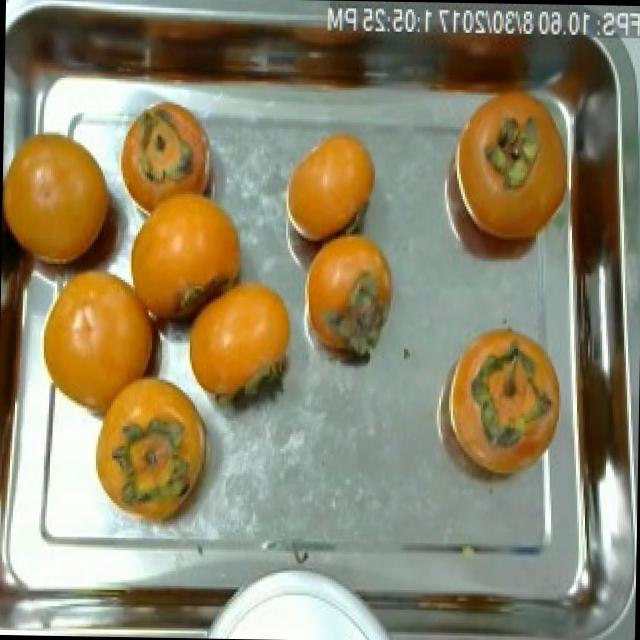Fruit: (36, 248, 177, 446), (115, 175, 258, 363), (80, 363, 225, 539), (445, 77, 572, 277), (0, 108, 126, 294), (170, 261, 305, 428), (435, 317, 566, 485), (104, 86, 226, 234), (299, 218, 406, 378), (275, 120, 387, 262)
